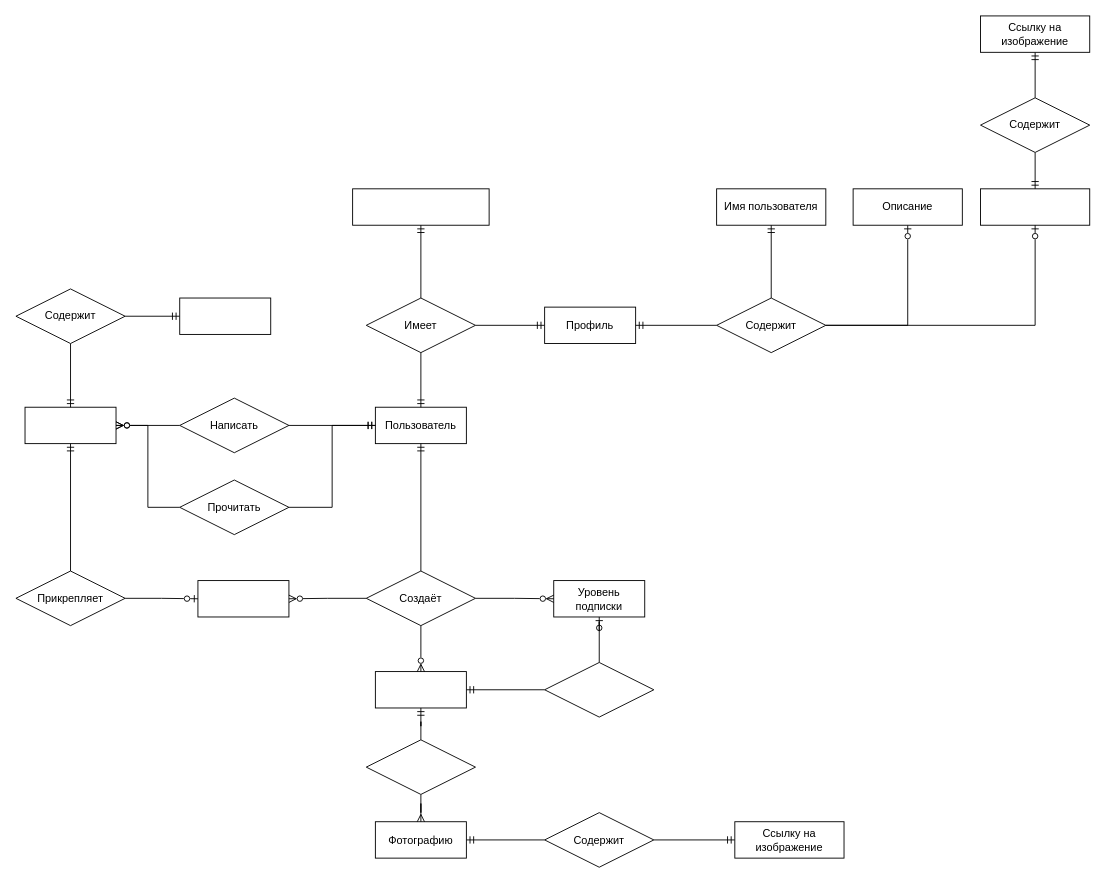
This 1106x884 diagram has some shape labels left out. Here are the shapes that lost their labels. From the top down, the box of each, then its label:
(352, 188, 489, 225): Логин, пароль, E-Mail
(980, 188, 1090, 225): Аватар
(179, 297, 271, 334): Текстовое Сообщение
(24, 406, 116, 444): Сообщение
(197, 580, 289, 617): Виды работ
(374, 671, 466, 708): Публикаций
(544, 662, 654, 717): Требовать
(365, 739, 475, 794): Добавить
